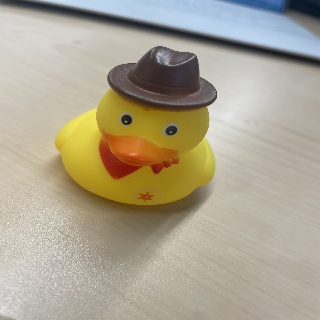duck_specialty: (54, 45, 214, 205)
